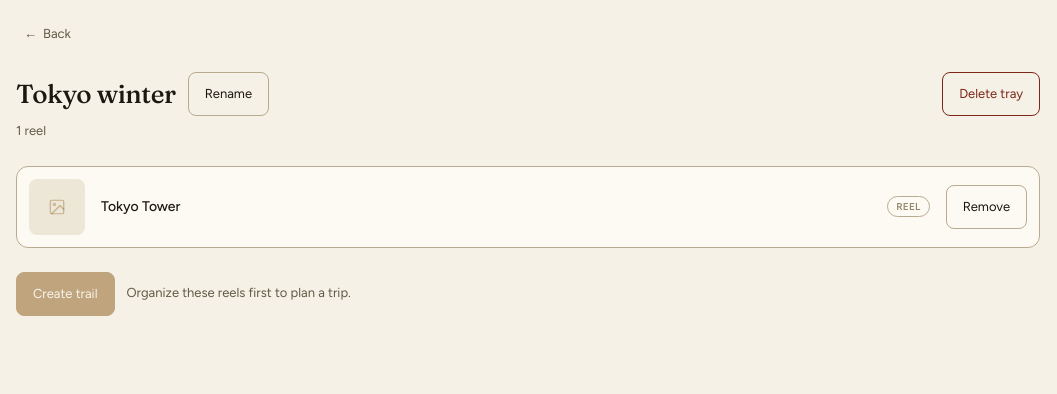
Test: TrayDetail › keeps the row and shows an inline error when a remove rejects (pessimistic)
Click the button with aria-label "Remove Tokyo Tower": click(986, 206) [946,184,1027,228]
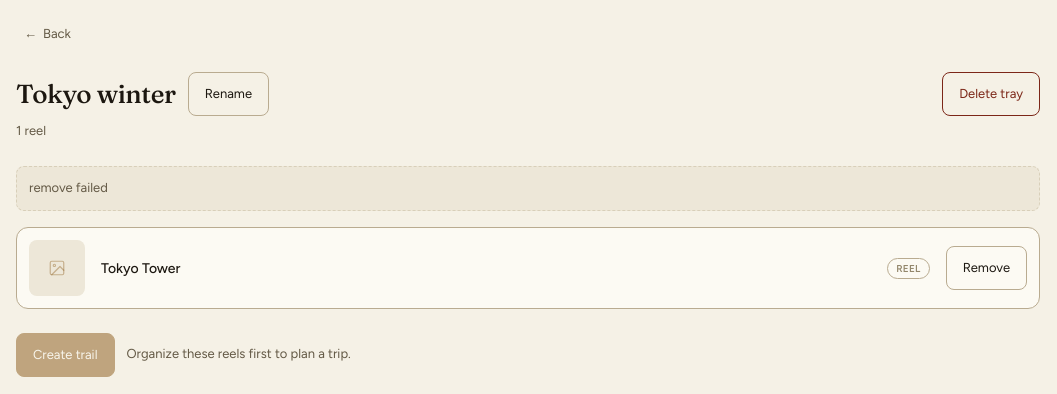
Expected: the text "Tokyo Tower" is shown, [101,260,180,276]
Now the message reads "remove failed", box [29,180,108,196]
